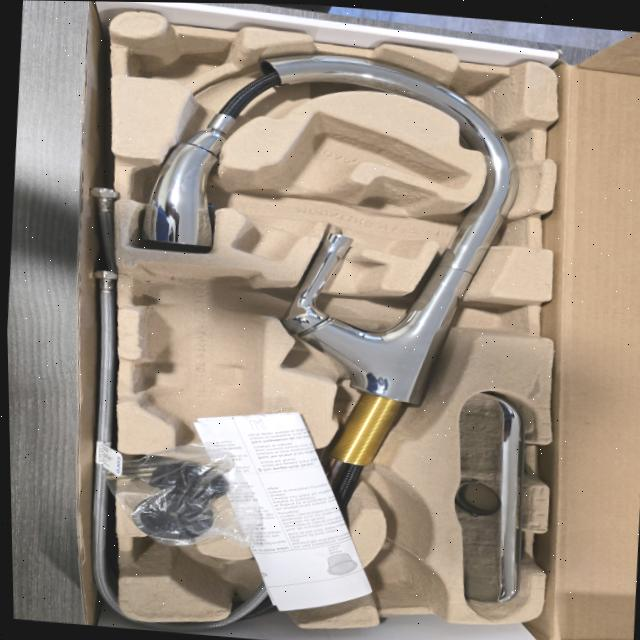1o: (140, 52, 518, 619)
2m: (230, 110, 468, 260)
3m: (132, 262, 260, 456)
4: (454, 391, 520, 602)
5m: (365, 545, 429, 600)
6m: (126, 518, 232, 595)
7: (101, 439, 258, 546)
8: (190, 412, 375, 611)
